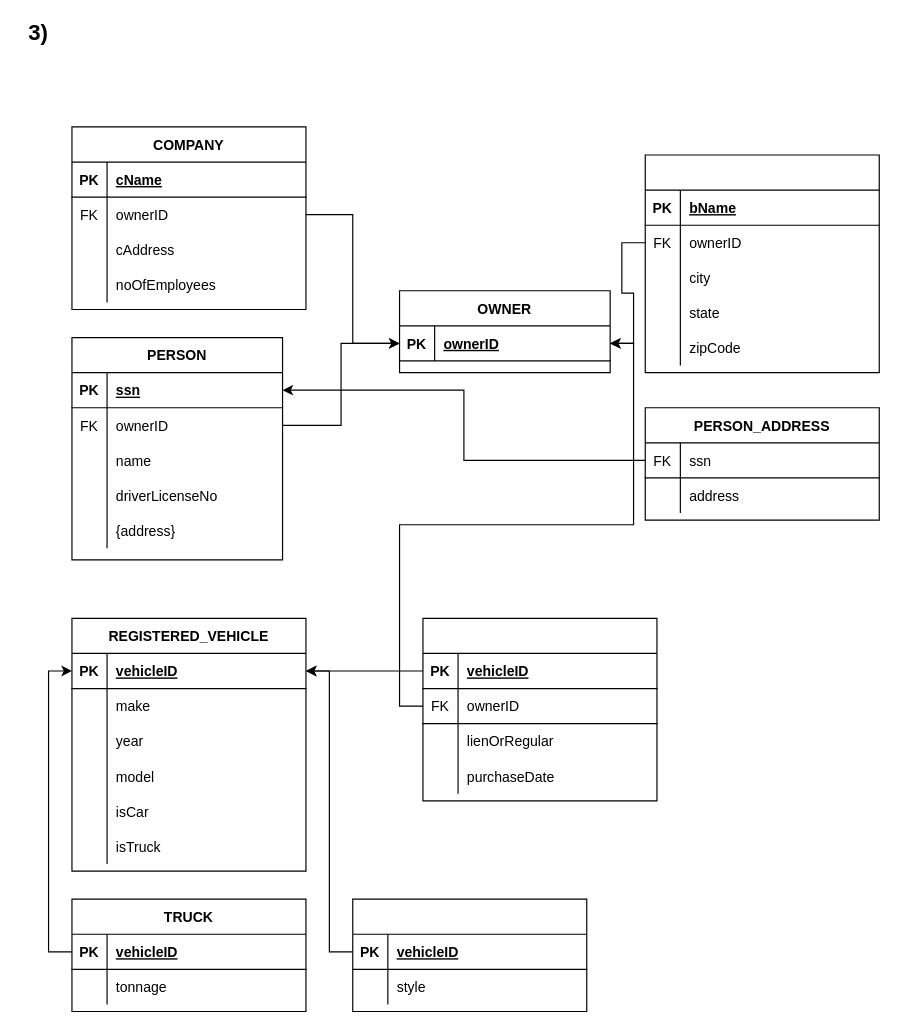
The diagram is 900 pixels wide and 1032 high, and some of its shapes have lost their labels. The box of each missing label's shape, as (x1, y1, x2, y2) in pixels:
BANK: (644, 154, 879, 373)
CAR: (352, 898, 587, 1011)
VEHICLE_OWNERS: (422, 617, 657, 801)
